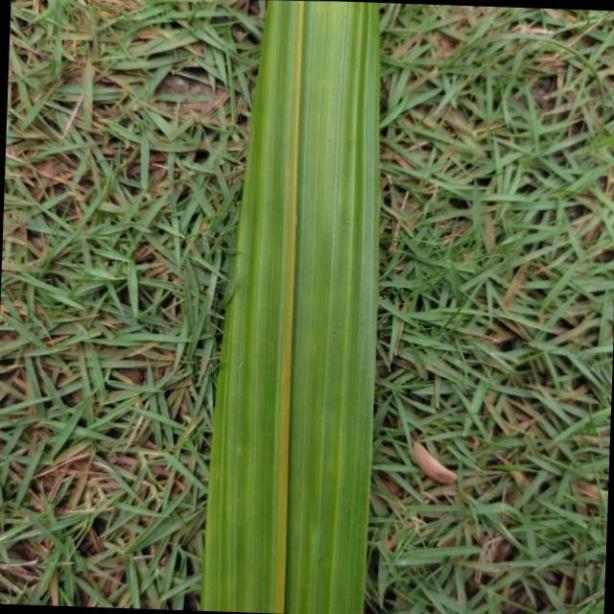nitrogen: (198, 0, 377, 614)
